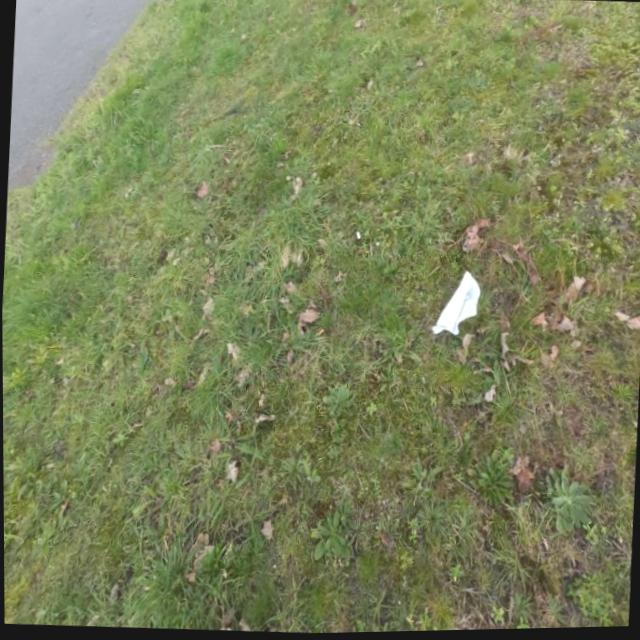Paper: (429, 269, 483, 341)
